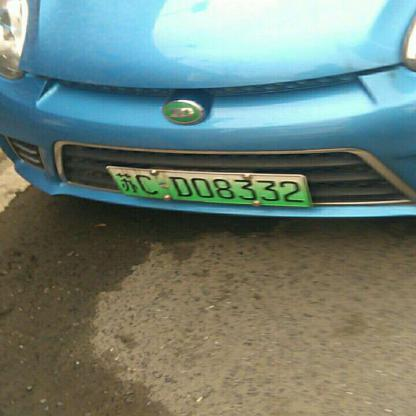lp: (106, 165, 312, 206)
